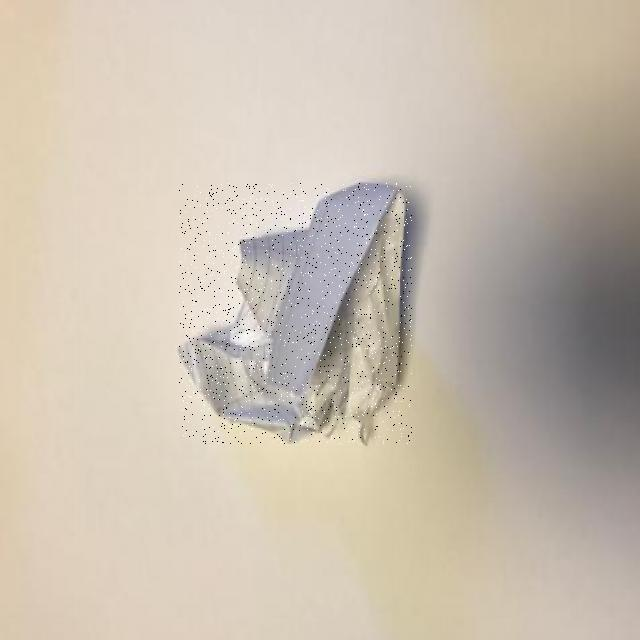paper: (179, 184, 412, 444)
